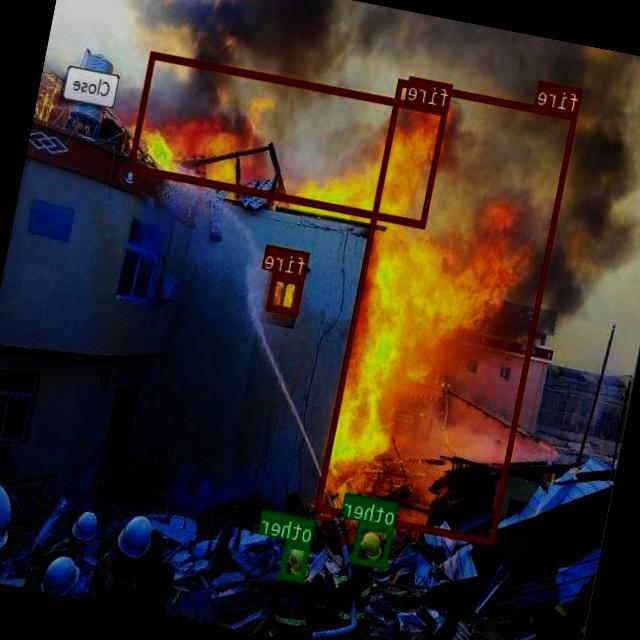fire: (316, 78, 578, 544), (129, 51, 450, 228), (268, 271, 306, 315)
